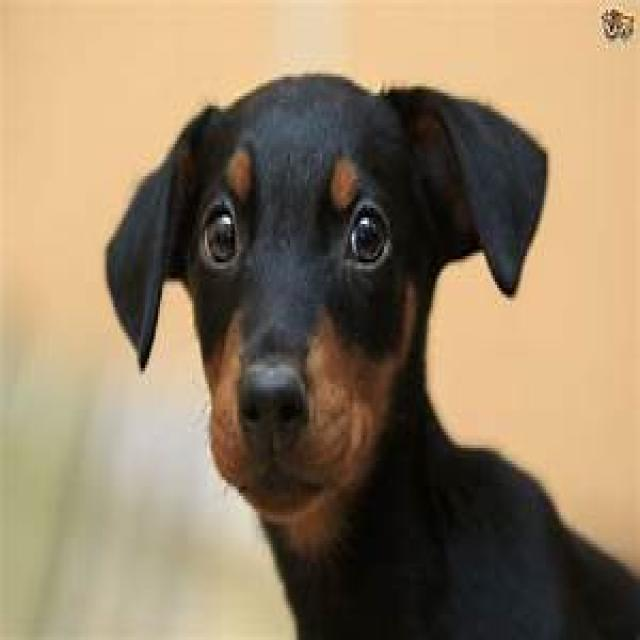dog: (102, 74, 640, 640)
